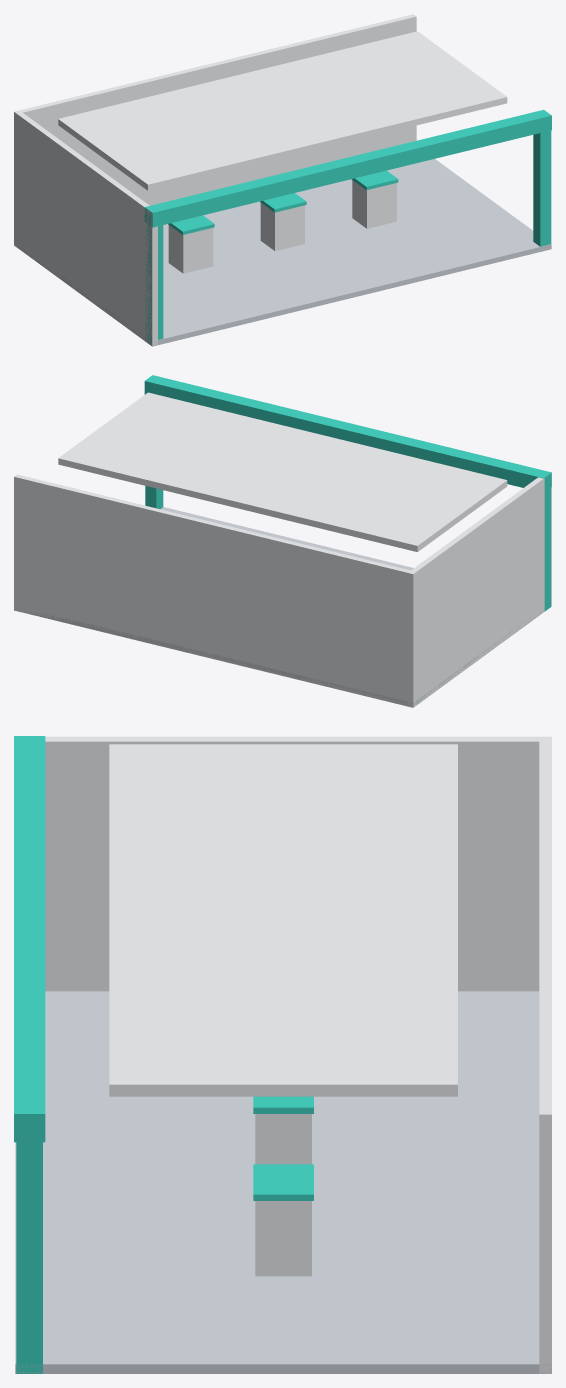
3 renders of one model, top to bottom at view 1: azimuth 30°, elevation 25°; view 2: azimuth 150°, elevation 25°; view 3: azimuth 270°, elevation 25°, orthographic. The views are drawn at different scales.
Visible parts, largest first — view 1: Exhibition Booth Concept; view 2: Exhibition Booth Concept; view 3: Exhibition Booth Concept.
Boxes of the visible parts, x1=… form: Exhibition Booth Concept: x1=14, y1=14, x2=551, y2=346; Exhibition Booth Concept: x1=14, y1=375, x2=551, y2=707; Exhibition Booth Concept: x1=14, y1=736, x2=551, y2=1373.
Size of the model in its own units: 10 by 3.34 by 6.02.
